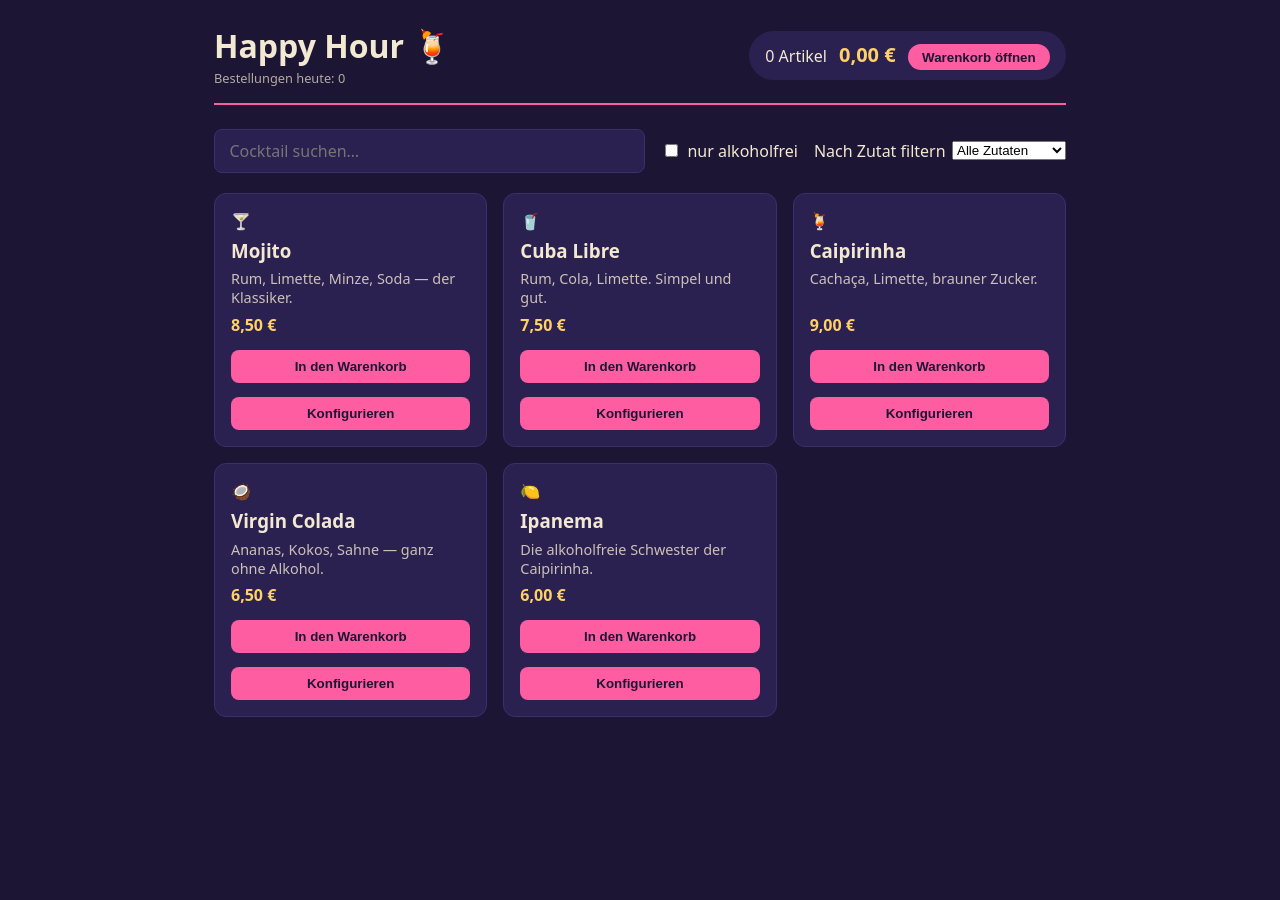
Test: App › Konfigurieren öffnet den Konfigurator; konfigurierter Cocktail landet mit angepasstem Preis im Warenkorb
The image size is (1280, 900).
Click the button "Konfigurieren" below "8,50 €" at (351, 413), box [231,397,470,430]
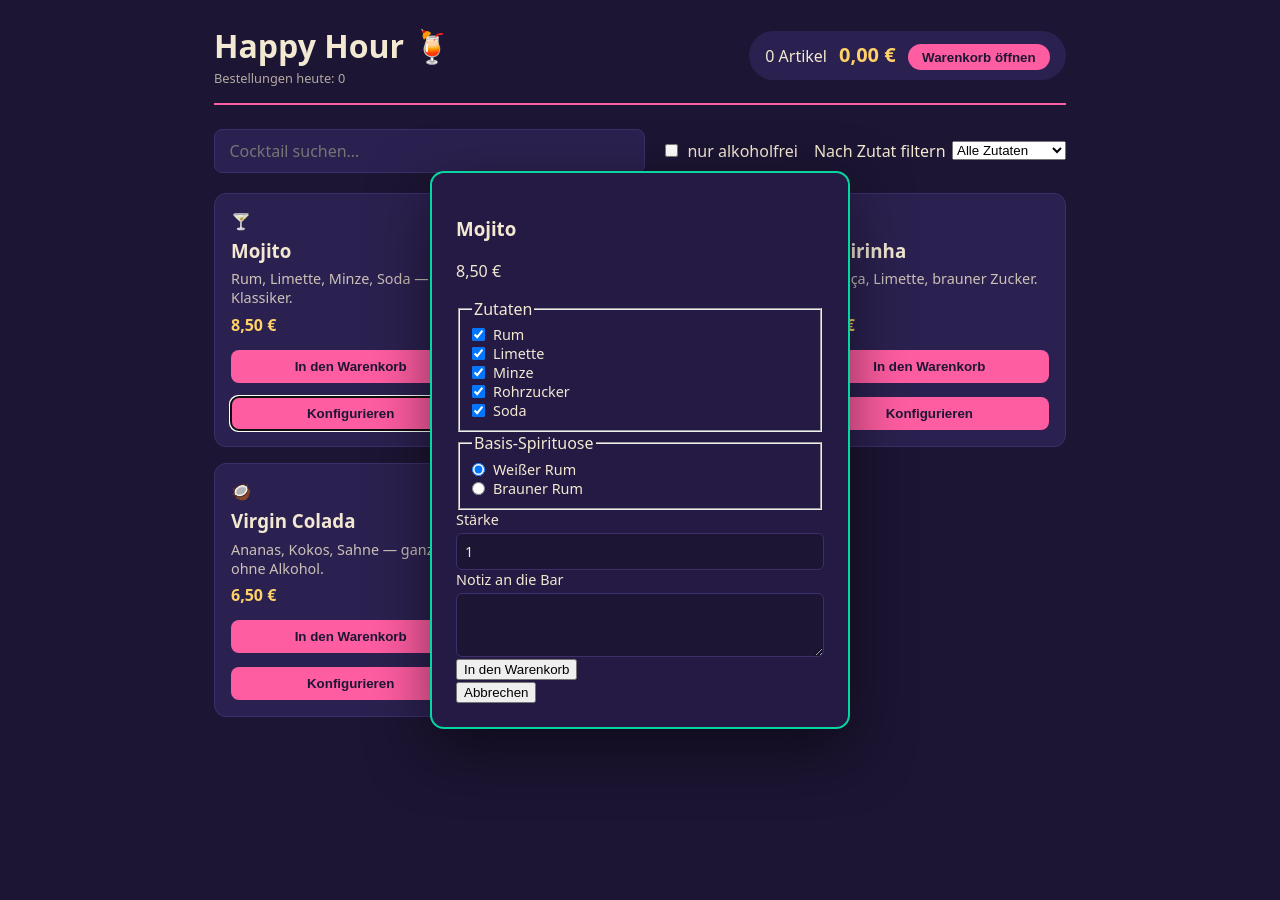
Replace the text in the number field labelled "Stärke" with "2" at (640, 551), box [456,533,824,570]
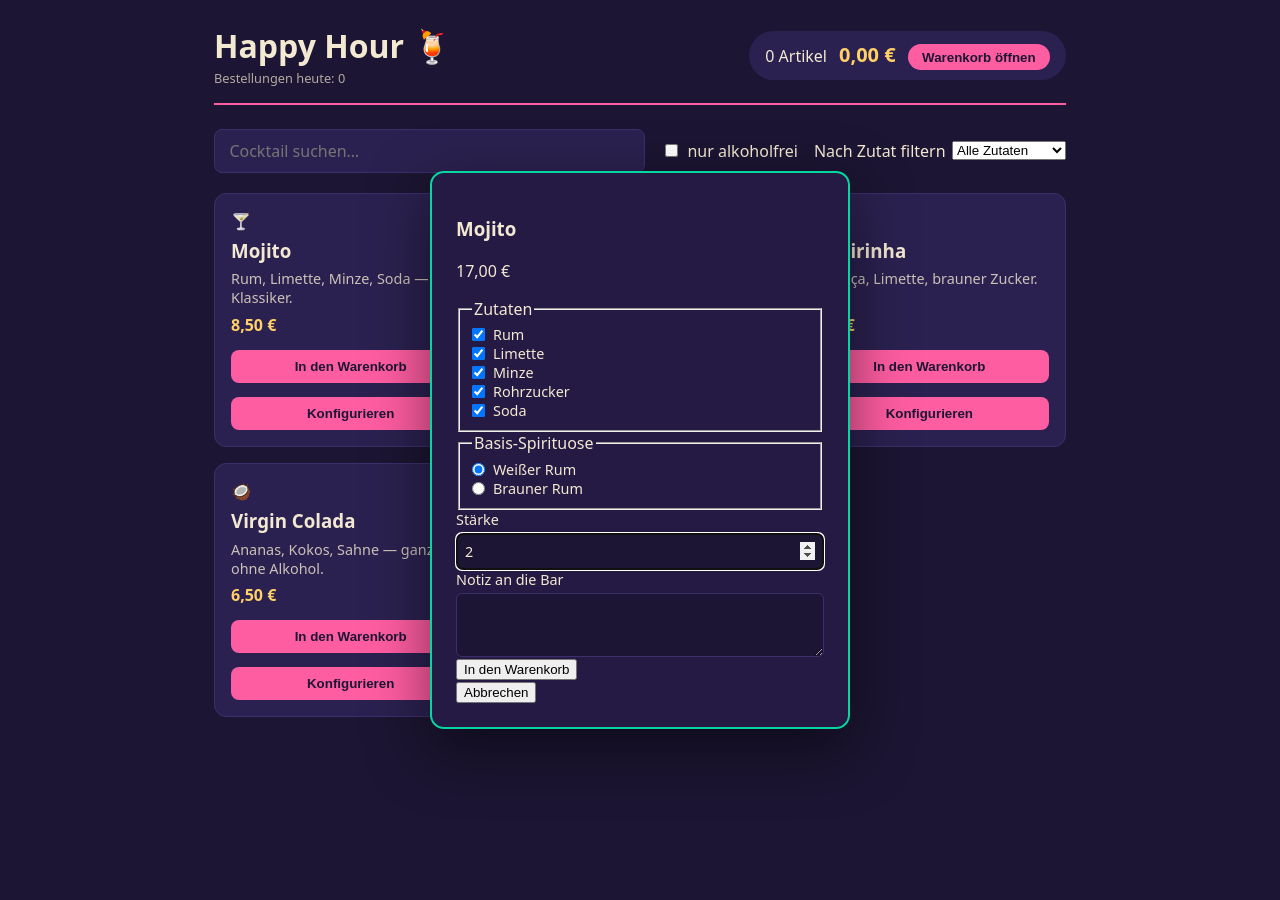
Click the button "In den Warenkorb" below "Notiz an die Bar" at (517, 669), box [456,659,578,680]
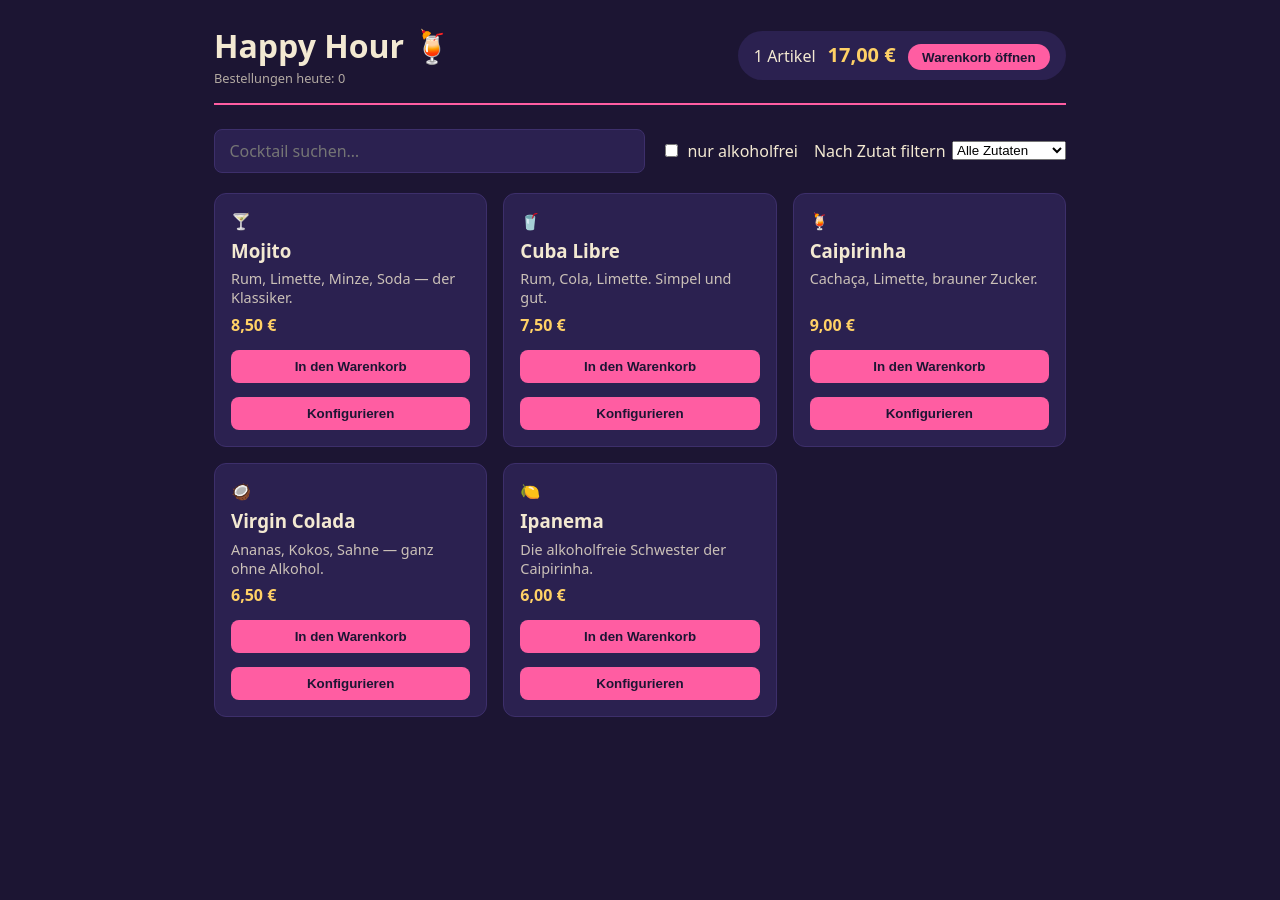
Check: the text "1 Artikel" is shown, box [754,45,816,67]
Check: the text "17,00 €" is shown, box [828,41,896,68]
